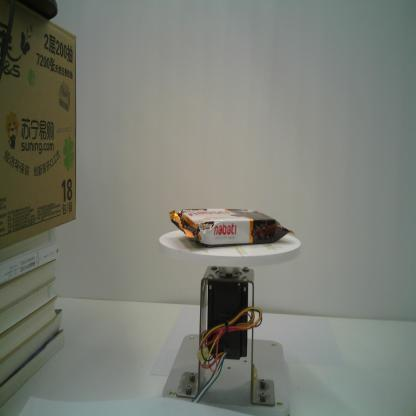Dessert: (169, 204, 296, 251)
